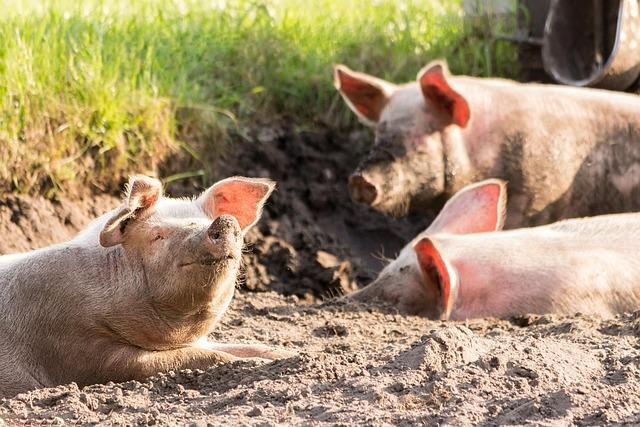Non_Gorille: (2, 0, 640, 427)
